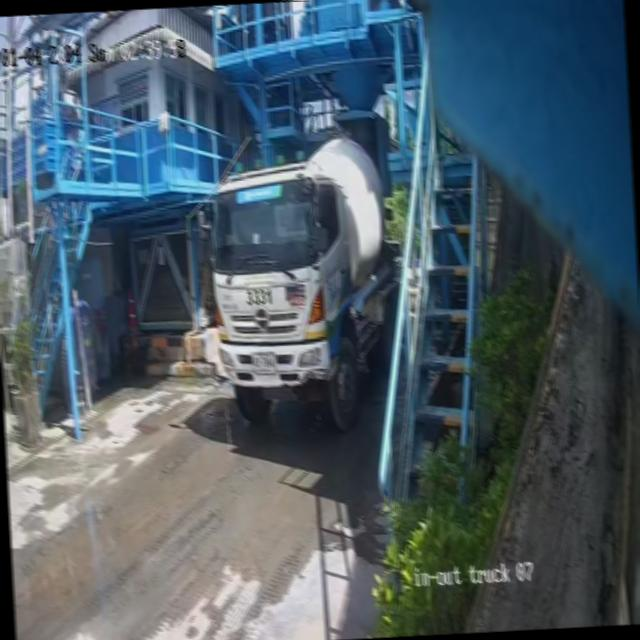cement_mixer_truck: (207, 136, 403, 429)
